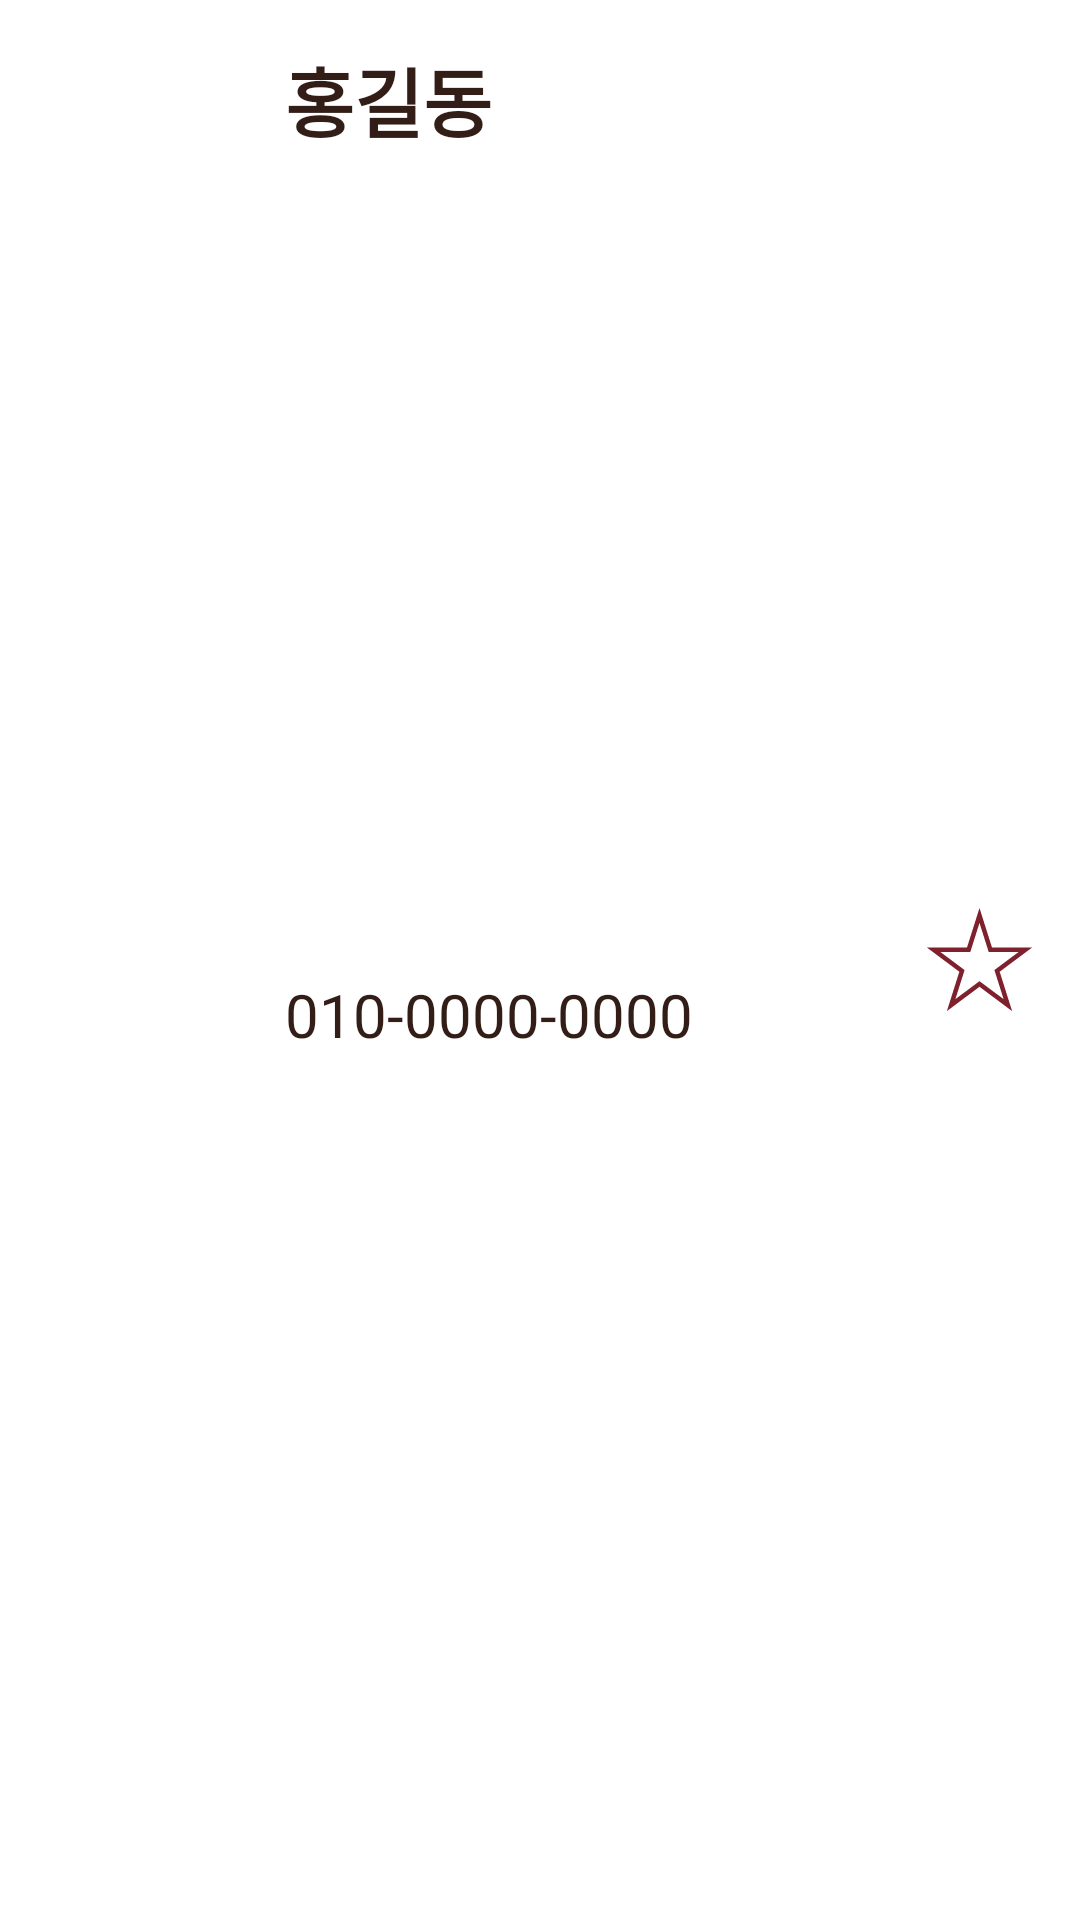

Named icons in this screenshot (1080w x 1920h) and their centers, (x,y):
slc contactfrag bookmark: (979,959)
